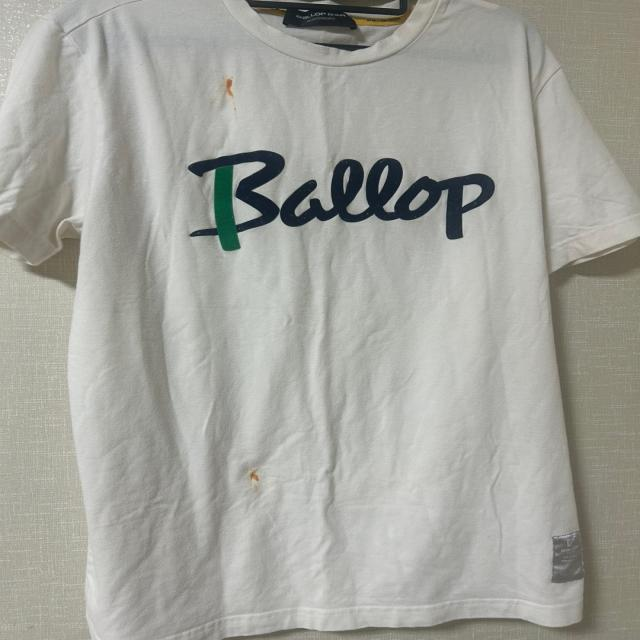stain: (219, 72, 250, 106), (239, 464, 274, 488)
